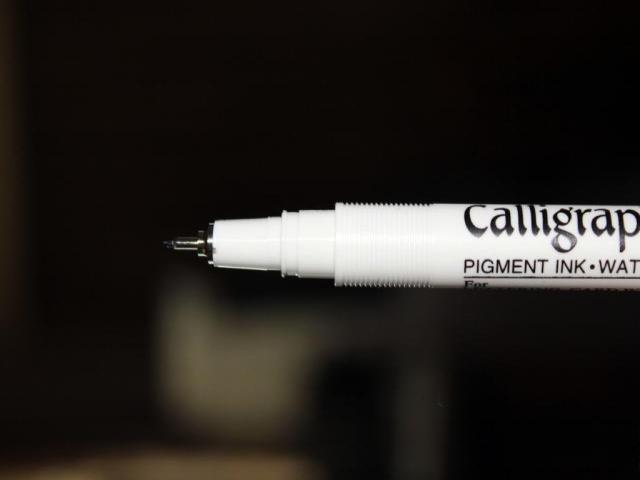PEN: (164, 197, 640, 298)
